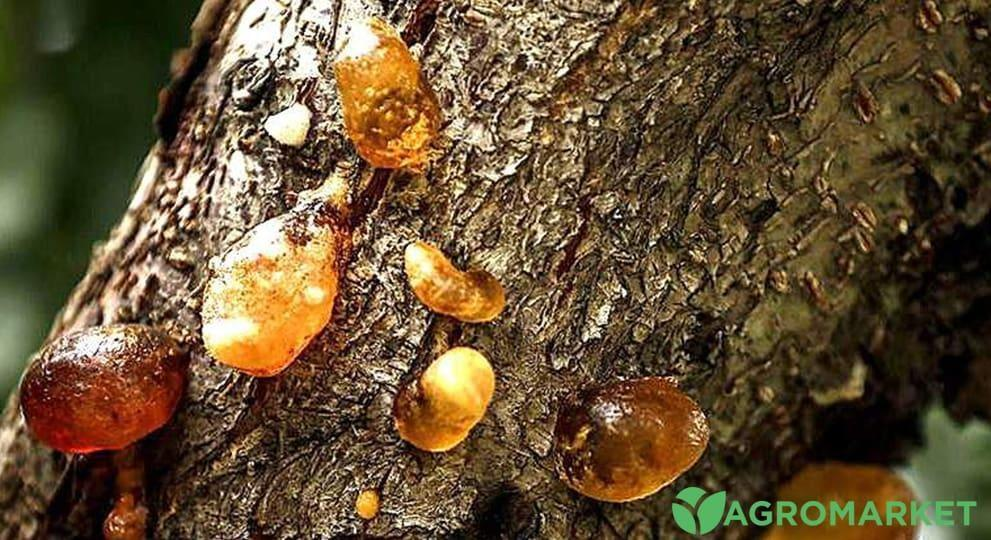gommosis: (202, 202, 344, 375), (20, 325, 186, 452), (554, 377, 708, 501), (334, 18, 441, 168), (393, 348, 494, 451), (404, 241, 505, 322), (356, 489, 378, 519)
